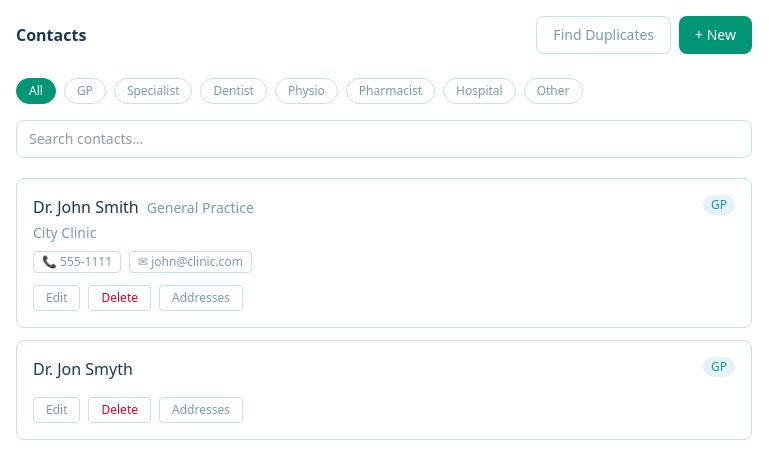
Scenario: ContactsPage › filters contacts by search input
Expected: the text "Dr. John Smith" is shown, x1=33 y1=196 x2=139 y2=218
In the search field with placeholder "Search contacts…": (384, 139) x1=16 y1=120 x2=752 y2=158, type "Jon"
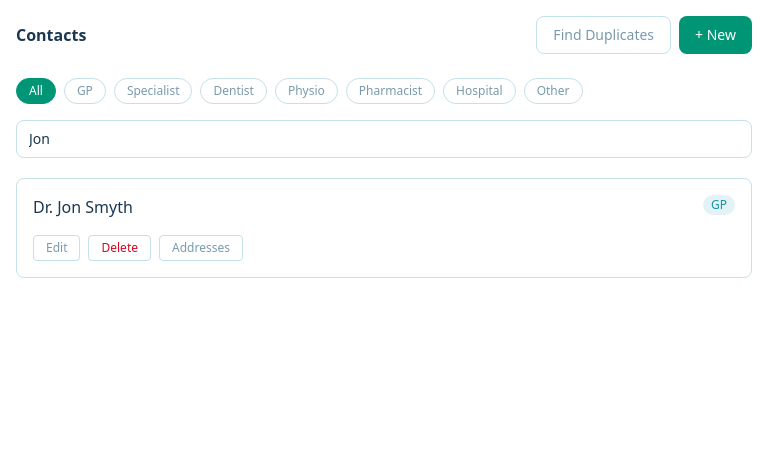
Expected: the text "Dr. Jon Smyth" is shown, x1=33 y1=196 x2=133 y2=218
Now the text "Dr. John Smith" is gone
